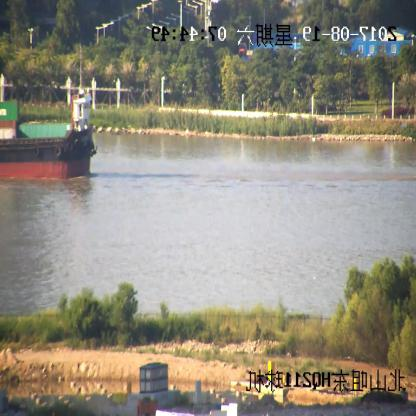Container Ship: (0, 88, 97, 183)
